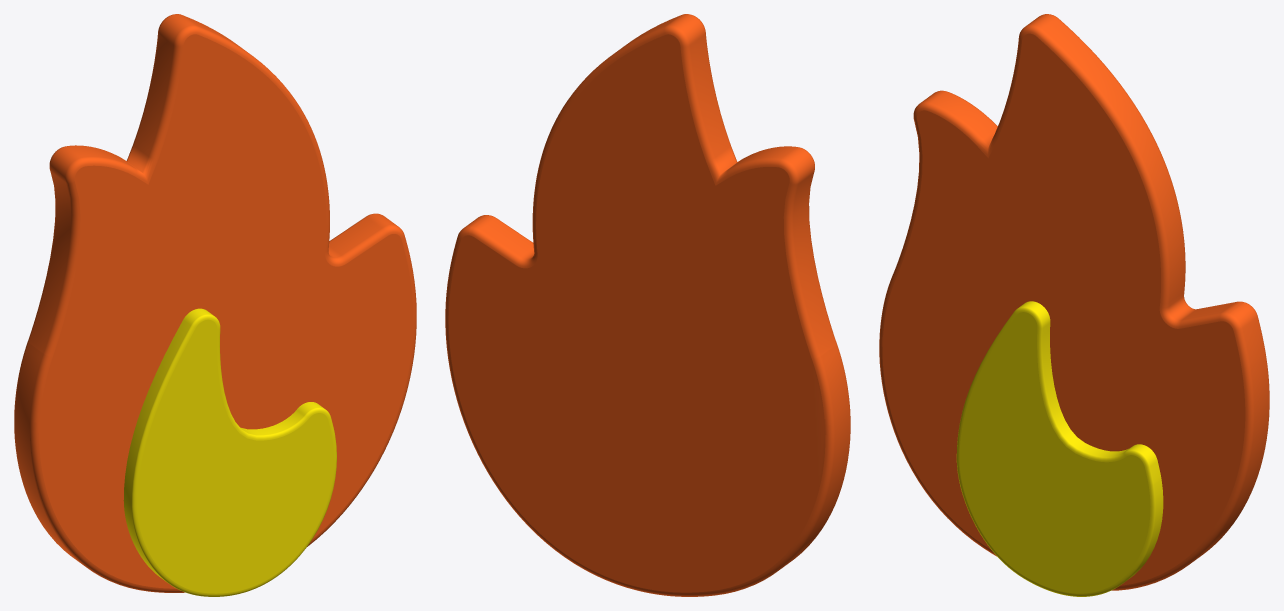
Rendered from fire.glb.
3 views of the same model, side by side, from view 1: azimuth 30°, elevation 25°; view 2: azimuth 150°, elevation 25°; view 3: azimuth 330°, elevation 25° (orthographic). The views are drawn at different scales.
Visible parts, largest first — view 1: Curve.003, Curve.005; view 2: Curve.003; view 3: Curve.003, Curve.005.
Boxes of the visible parts, bbox=[...] form: Curve.003: bbox=[14, 14, 416, 592]; Curve.005: bbox=[123, 308, 336, 596]; Curve.003: bbox=[445, 14, 850, 596]; Curve.003: bbox=[879, 14, 1269, 590]; Curve.005: bbox=[956, 301, 1163, 596].
Bounding box in the file's own units: 25.32 × 35.66 × 3.52.
